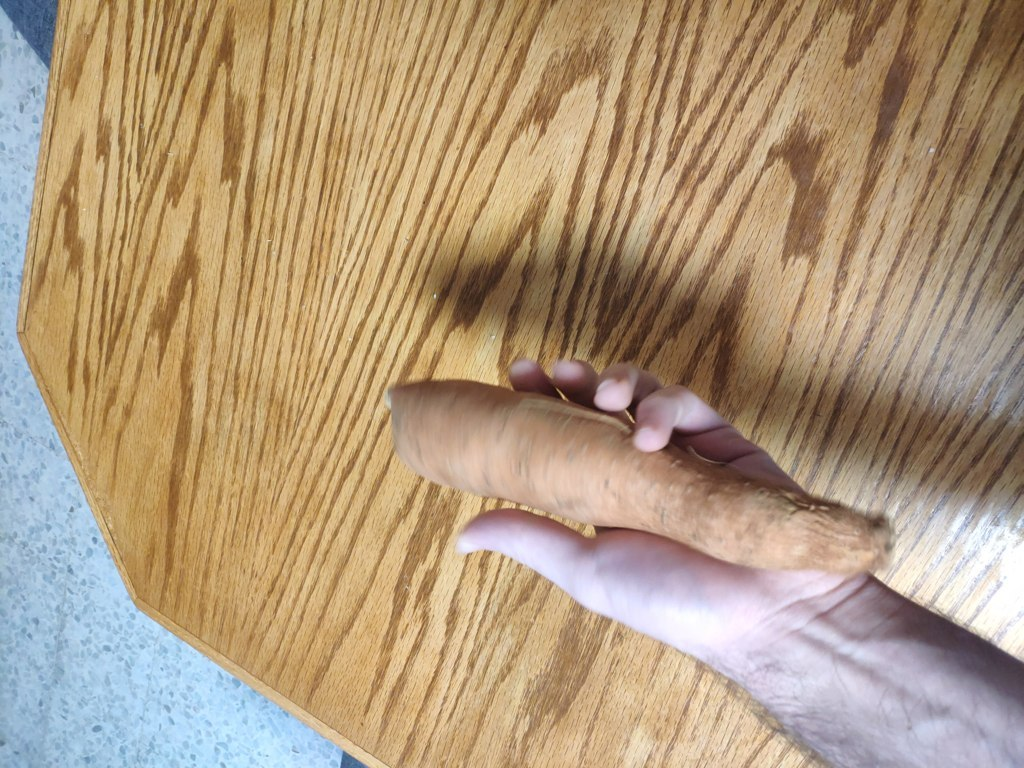Sweet Potato: (381, 358, 942, 573)
